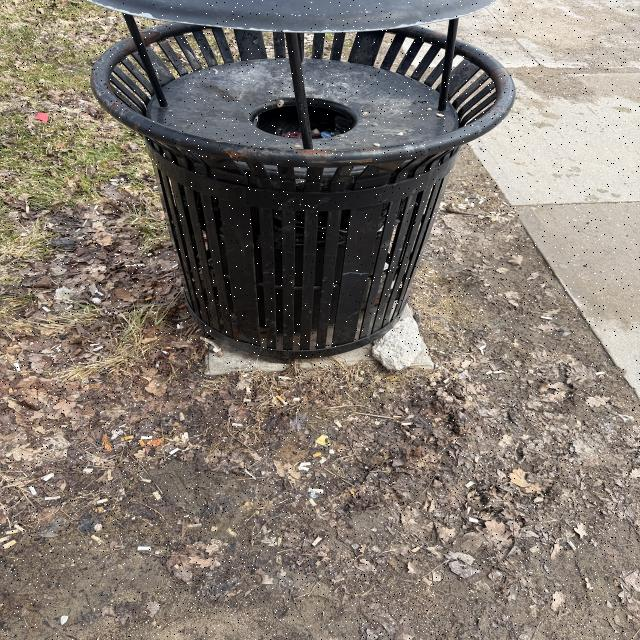Dustbin: (83, 0, 517, 362)
